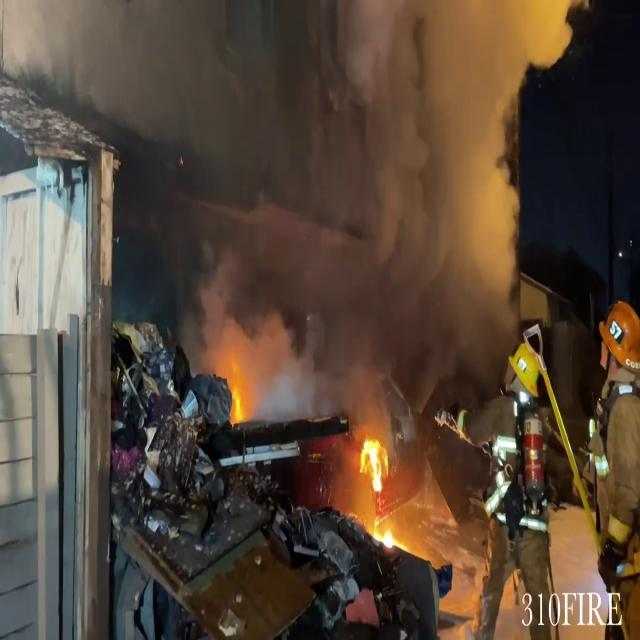Fire: (356, 430, 394, 500), (207, 362, 247, 424), (379, 523, 402, 553)
Smoke: (184, 0, 556, 396)
